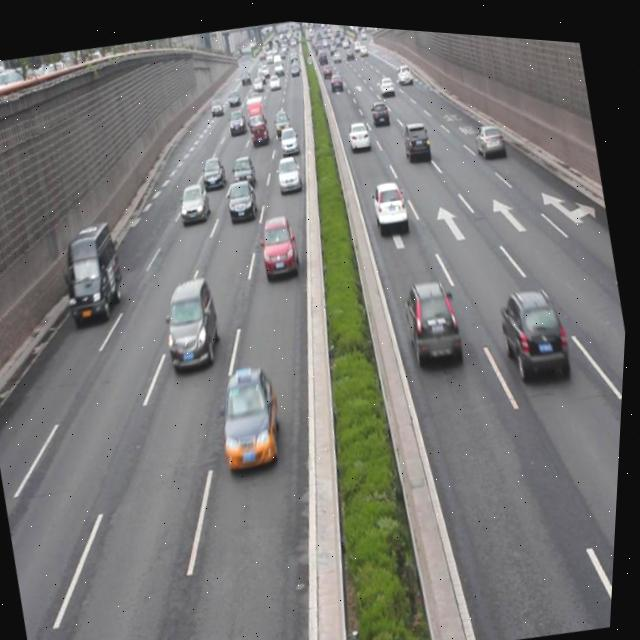car: (211, 355, 294, 470), (495, 272, 577, 380), (399, 267, 470, 364), (255, 205, 305, 277), (369, 171, 413, 227), (224, 171, 262, 219), (398, 110, 434, 159), (177, 177, 215, 223), (471, 111, 509, 156), (274, 147, 306, 189), (200, 151, 228, 189), (231, 148, 260, 184), (345, 111, 373, 147), (277, 119, 301, 152), (369, 91, 391, 120)
truck: (55, 214, 134, 325), (157, 270, 232, 373)
